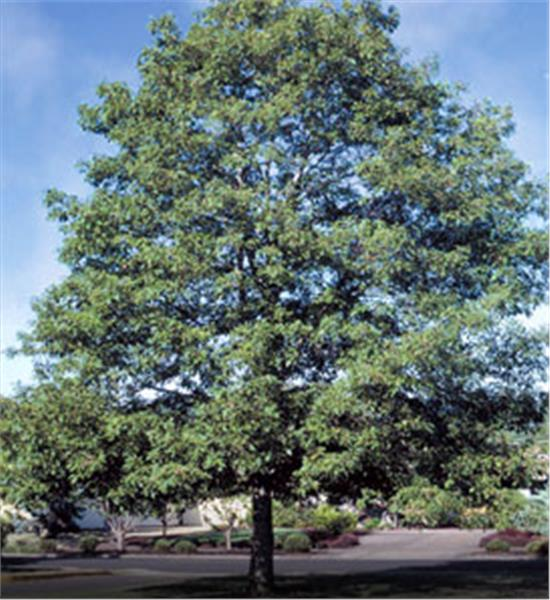tree: (3, 1, 550, 599)
